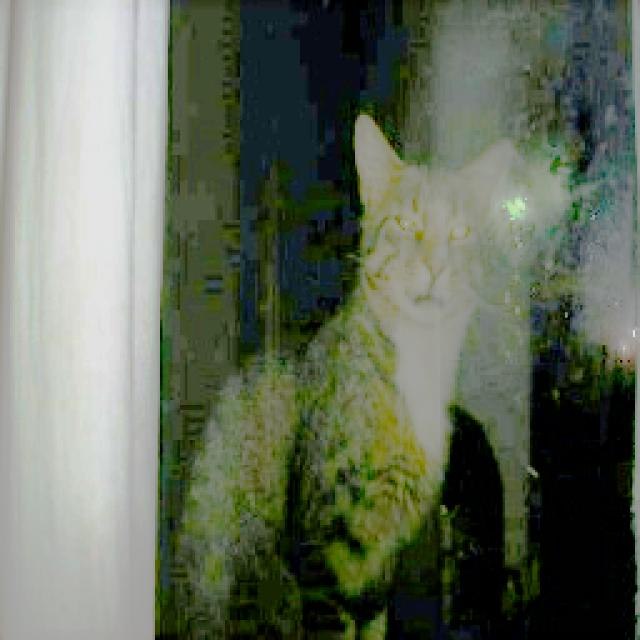cat: (154, 101, 533, 618)
